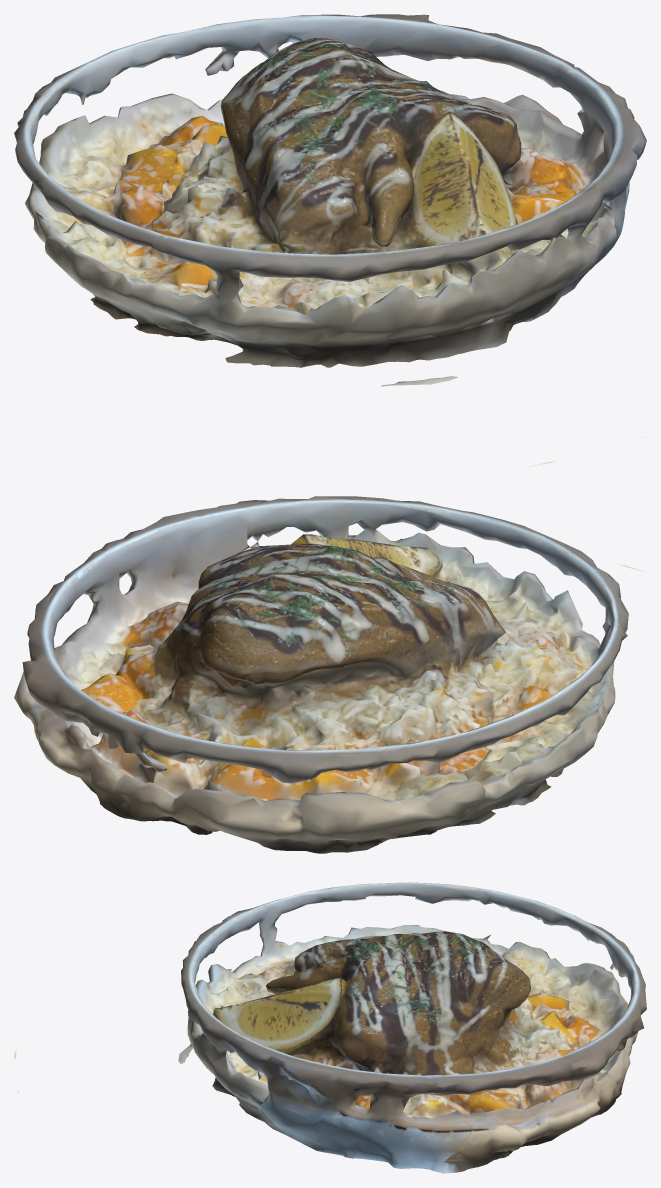
The model's file is 3DModel_LowPoly.obj.
3 views of the same model, one above another, from view 1: azimuth 30°, elevation 25°; view 2: azimuth 150°, elevation 25°; view 3: azimuth 270°, elevation 25° (orthographic). The views are drawn at different scales.
Parts seen in each view (by area): view 1: 3DModel_LowPoly; view 2: 3DModel_LowPoly; view 3: 3DModel_LowPoly.
Part boxes in pixels (left/top/right/bottom): 3DModel_LowPoly: left=14, top=14, right=646, bottom=467; 3DModel_LowPoly: left=14, top=496, right=643, bottom=853; 3DModel_LowPoly: left=14, top=882, right=646, bottom=1173.
Size of the model in its own units: 6.61 by 2.12 by 8.89.
Materials: 1 (1 with a texture image).
